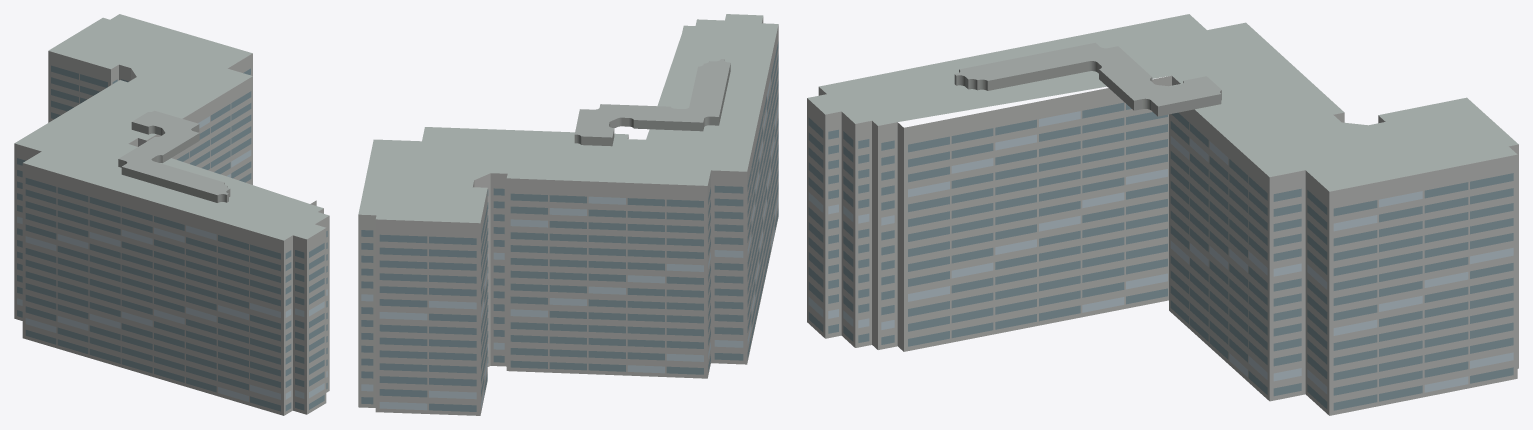
Rendered from apt-a13824003.glb.
The picture shows the model from 3 angles, left to right: view 1: azimuth 30°, elevation 25°; view 2: azimuth 150°, elevation 25°; view 3: azimuth 270°, elevation 25°; orthographic projection. The views are drawn at different scales.
Parts seen in each view (by area): view 1: apt-a13824003; view 2: apt-a13824003; view 3: apt-a13824003.
Boxes of the visible parts, x1,y1,x2,y2 form: apt-a13824003: (14,14,329,415); apt-a13824003: (358,14,778,415); apt-a13824003: (807,14,1518,415).
Size of the model in its own units: 77.81 by 47.81 by 132.
